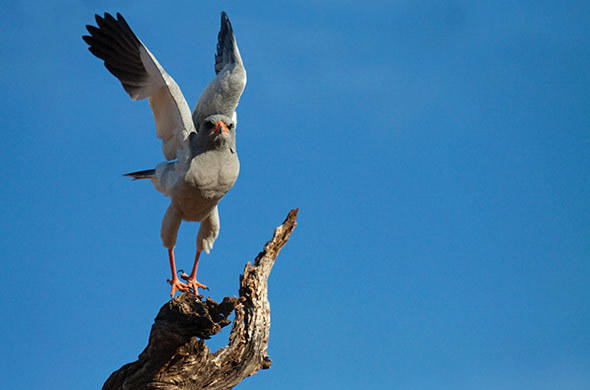bird: (80, 7, 250, 298)
